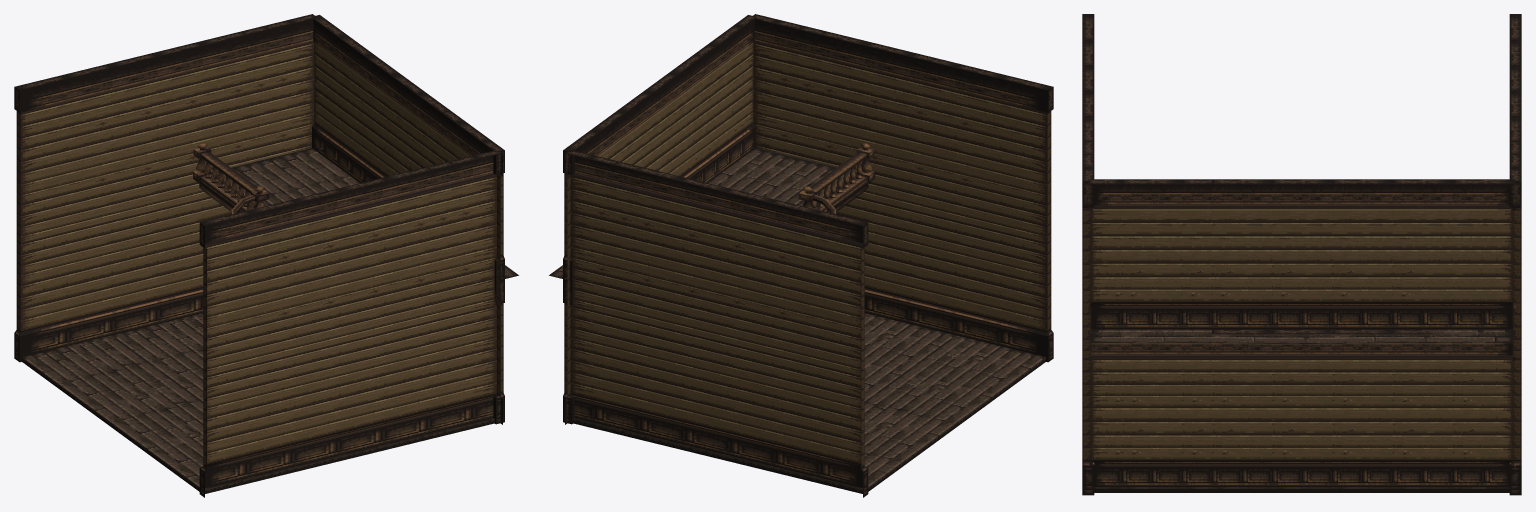
Rendered from EnvBdgMD_Wilderness_A_Indoor_A_Shop_Pub.FBX.
The picture shows the model from 3 angles, left to right: view 1: azimuth 30°, elevation 25°; view 2: azimuth 150°, elevation 25°; view 3: azimuth 270°, elevation 25°; orthographic projection. The views are drawn at different scales.
Parts seen in each view (by area): view 1: EnvBdgMD_Wilderness_A_Indoor_A_Shop_Pub; view 2: EnvBdgMD_Wilderness_A_Indoor_A_Shop_Pub; view 3: EnvBdgMD_Wilderness_A_Indoor_A_Shop_Pub.
Boxes of the visible parts, left/top/right/bottom form: EnvBdgMD_Wilderness_A_Indoor_A_Shop_Pub: left=14, top=14, right=518, bottom=497; EnvBdgMD_Wilderness_A_Indoor_A_Shop_Pub: left=549, top=14, right=1053, bottom=497; EnvBdgMD_Wilderness_A_Indoor_A_Shop_Pub: left=1082, top=14, right=1521, bottom=495.
Size of the model in its own units: 1411 by 1150 by 1460.
1 material, 1 textured.
